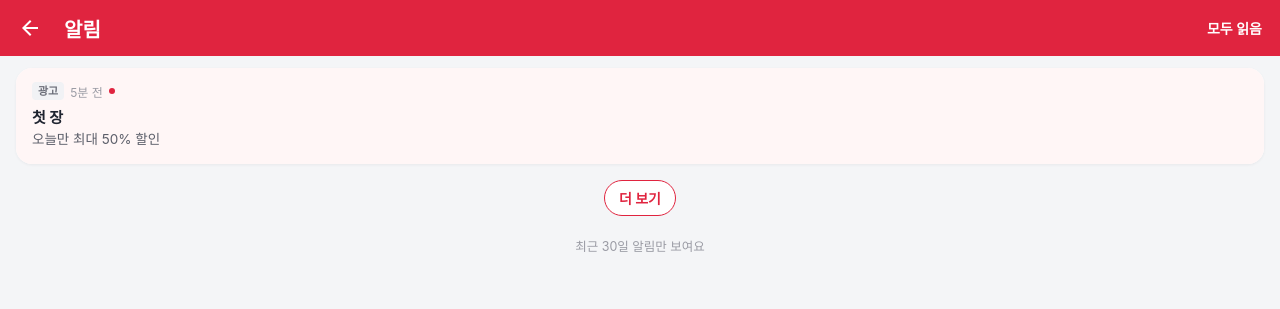
Scenario: NotificationsPage › loads the next page with 더 보기
Click the button "더 보기" at (640, 198), box x1=604 y1=180 x2=676 y2=216
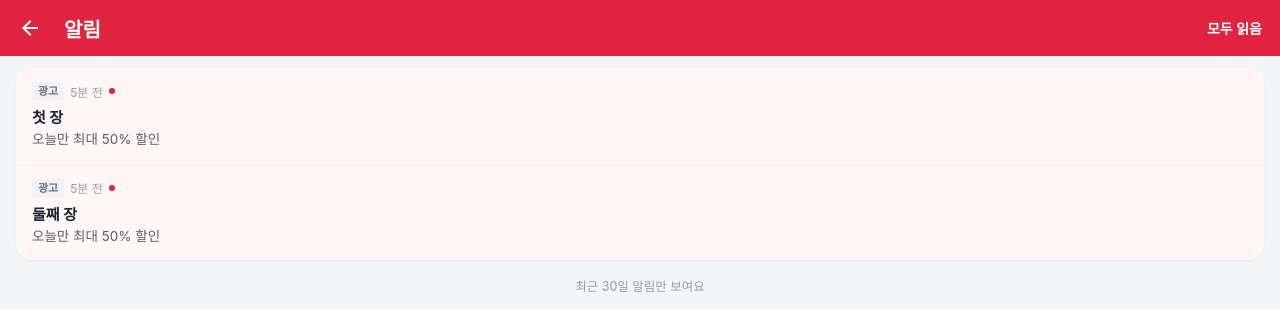
Check: the text "첫 장" is shown, box x1=32 y1=108 x2=63 y2=127
Check: the text "둘째 장" is shown, box x1=32 y1=205 x2=77 y2=224
Check: the button "더 보기" is gone
